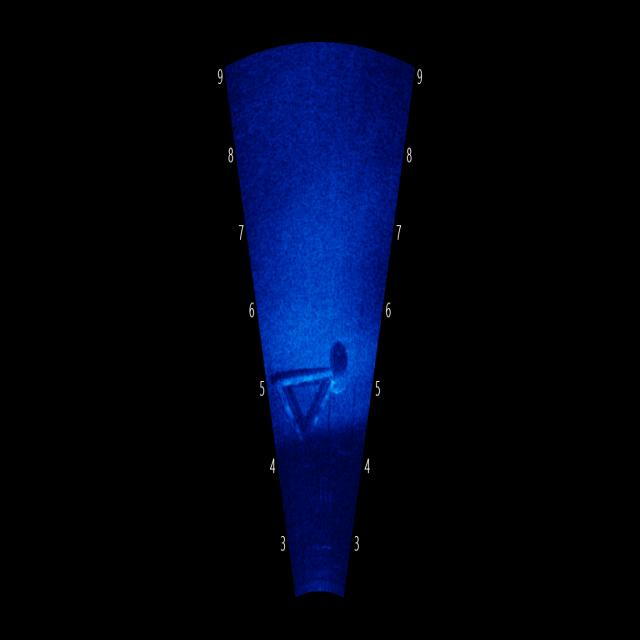triangle: (270, 307, 350, 456)
